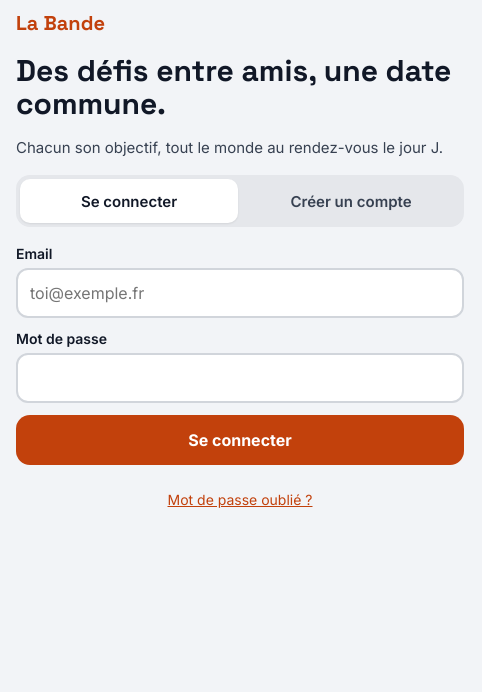
it: Login › crée le compte avec le pseudo et demande de confirmer l’email
Click the tab "Créer un compte": point(351, 201) [242, 179, 460, 223]
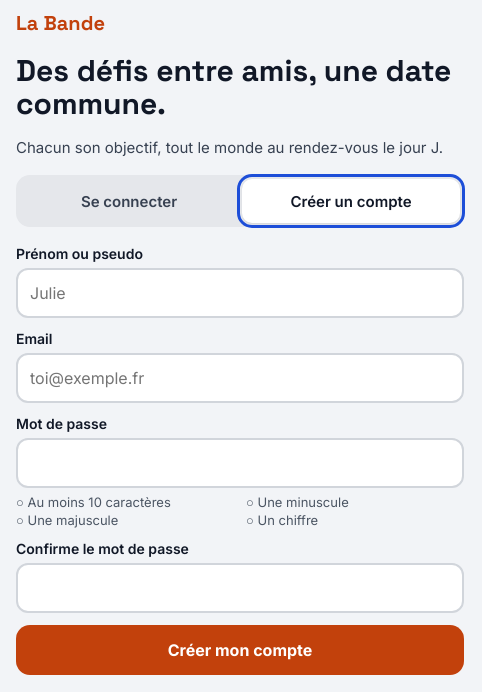
In the field labelled "Prénom ou pseudo": point(240, 293) [16, 268, 464, 318], type " Julie "
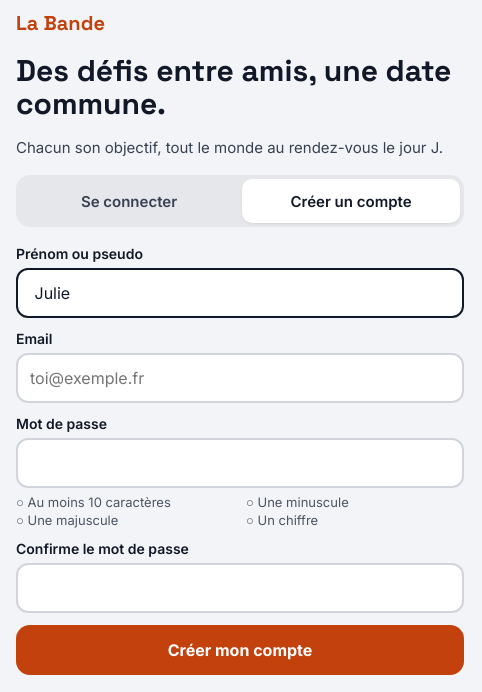
In the field labelled "Email": point(240, 378) [16, 353, 464, 403], type "julie@exemple.fr"
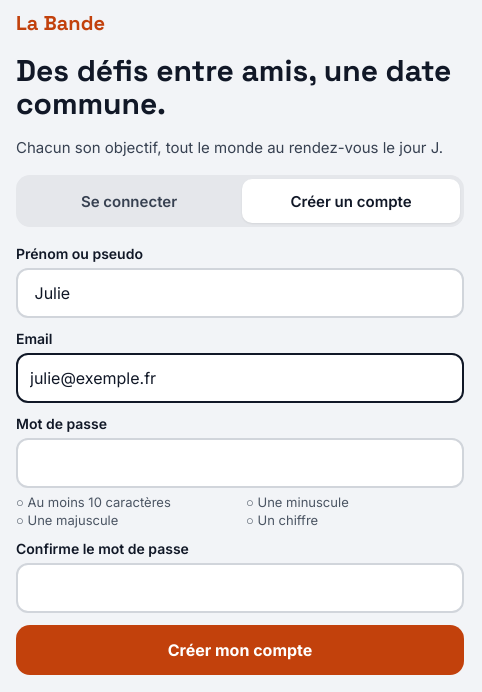
In the password field labelled "Mot de passe": point(240, 463) [16, 438, 464, 488], type "Sprint2026Fort"
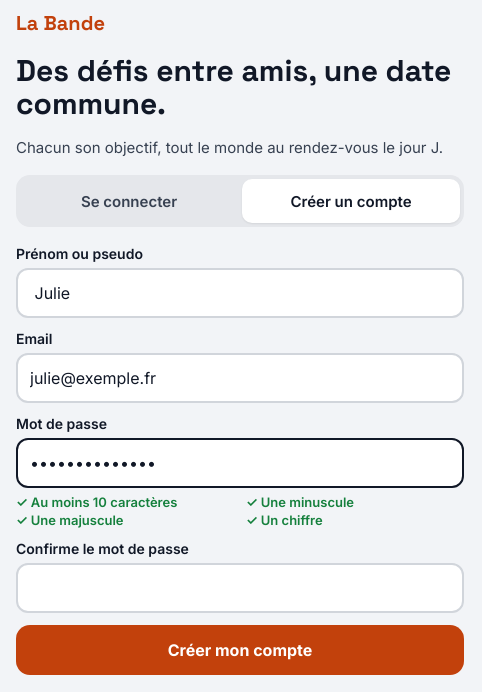
In the password field labelled "Confirme le mot de passe": point(240, 588) [16, 563, 464, 613], type "Sprint2026Fort"
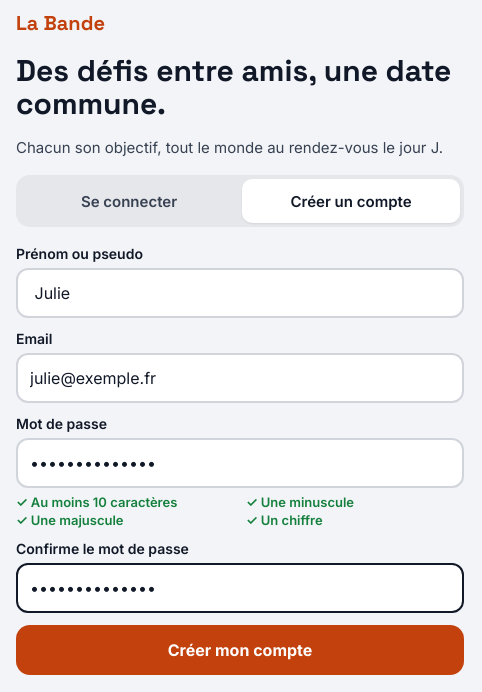
Click the button "Créer mon compte": point(240, 650) [16, 625, 464, 675]
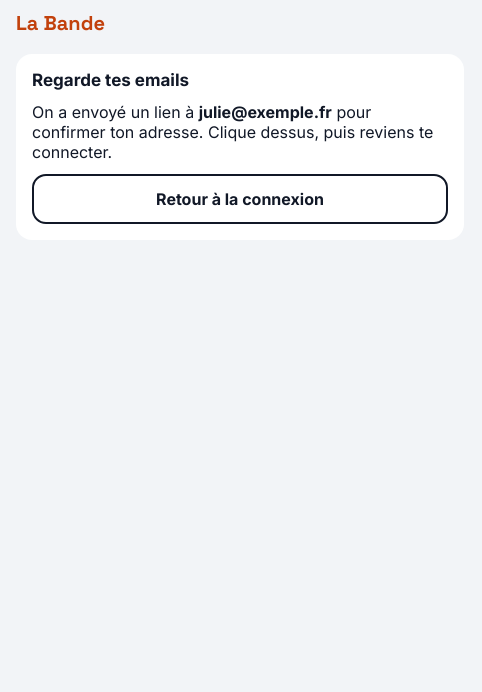
Now the heading "Regarde tes emails" is shown, box [32, 70, 189, 90]
